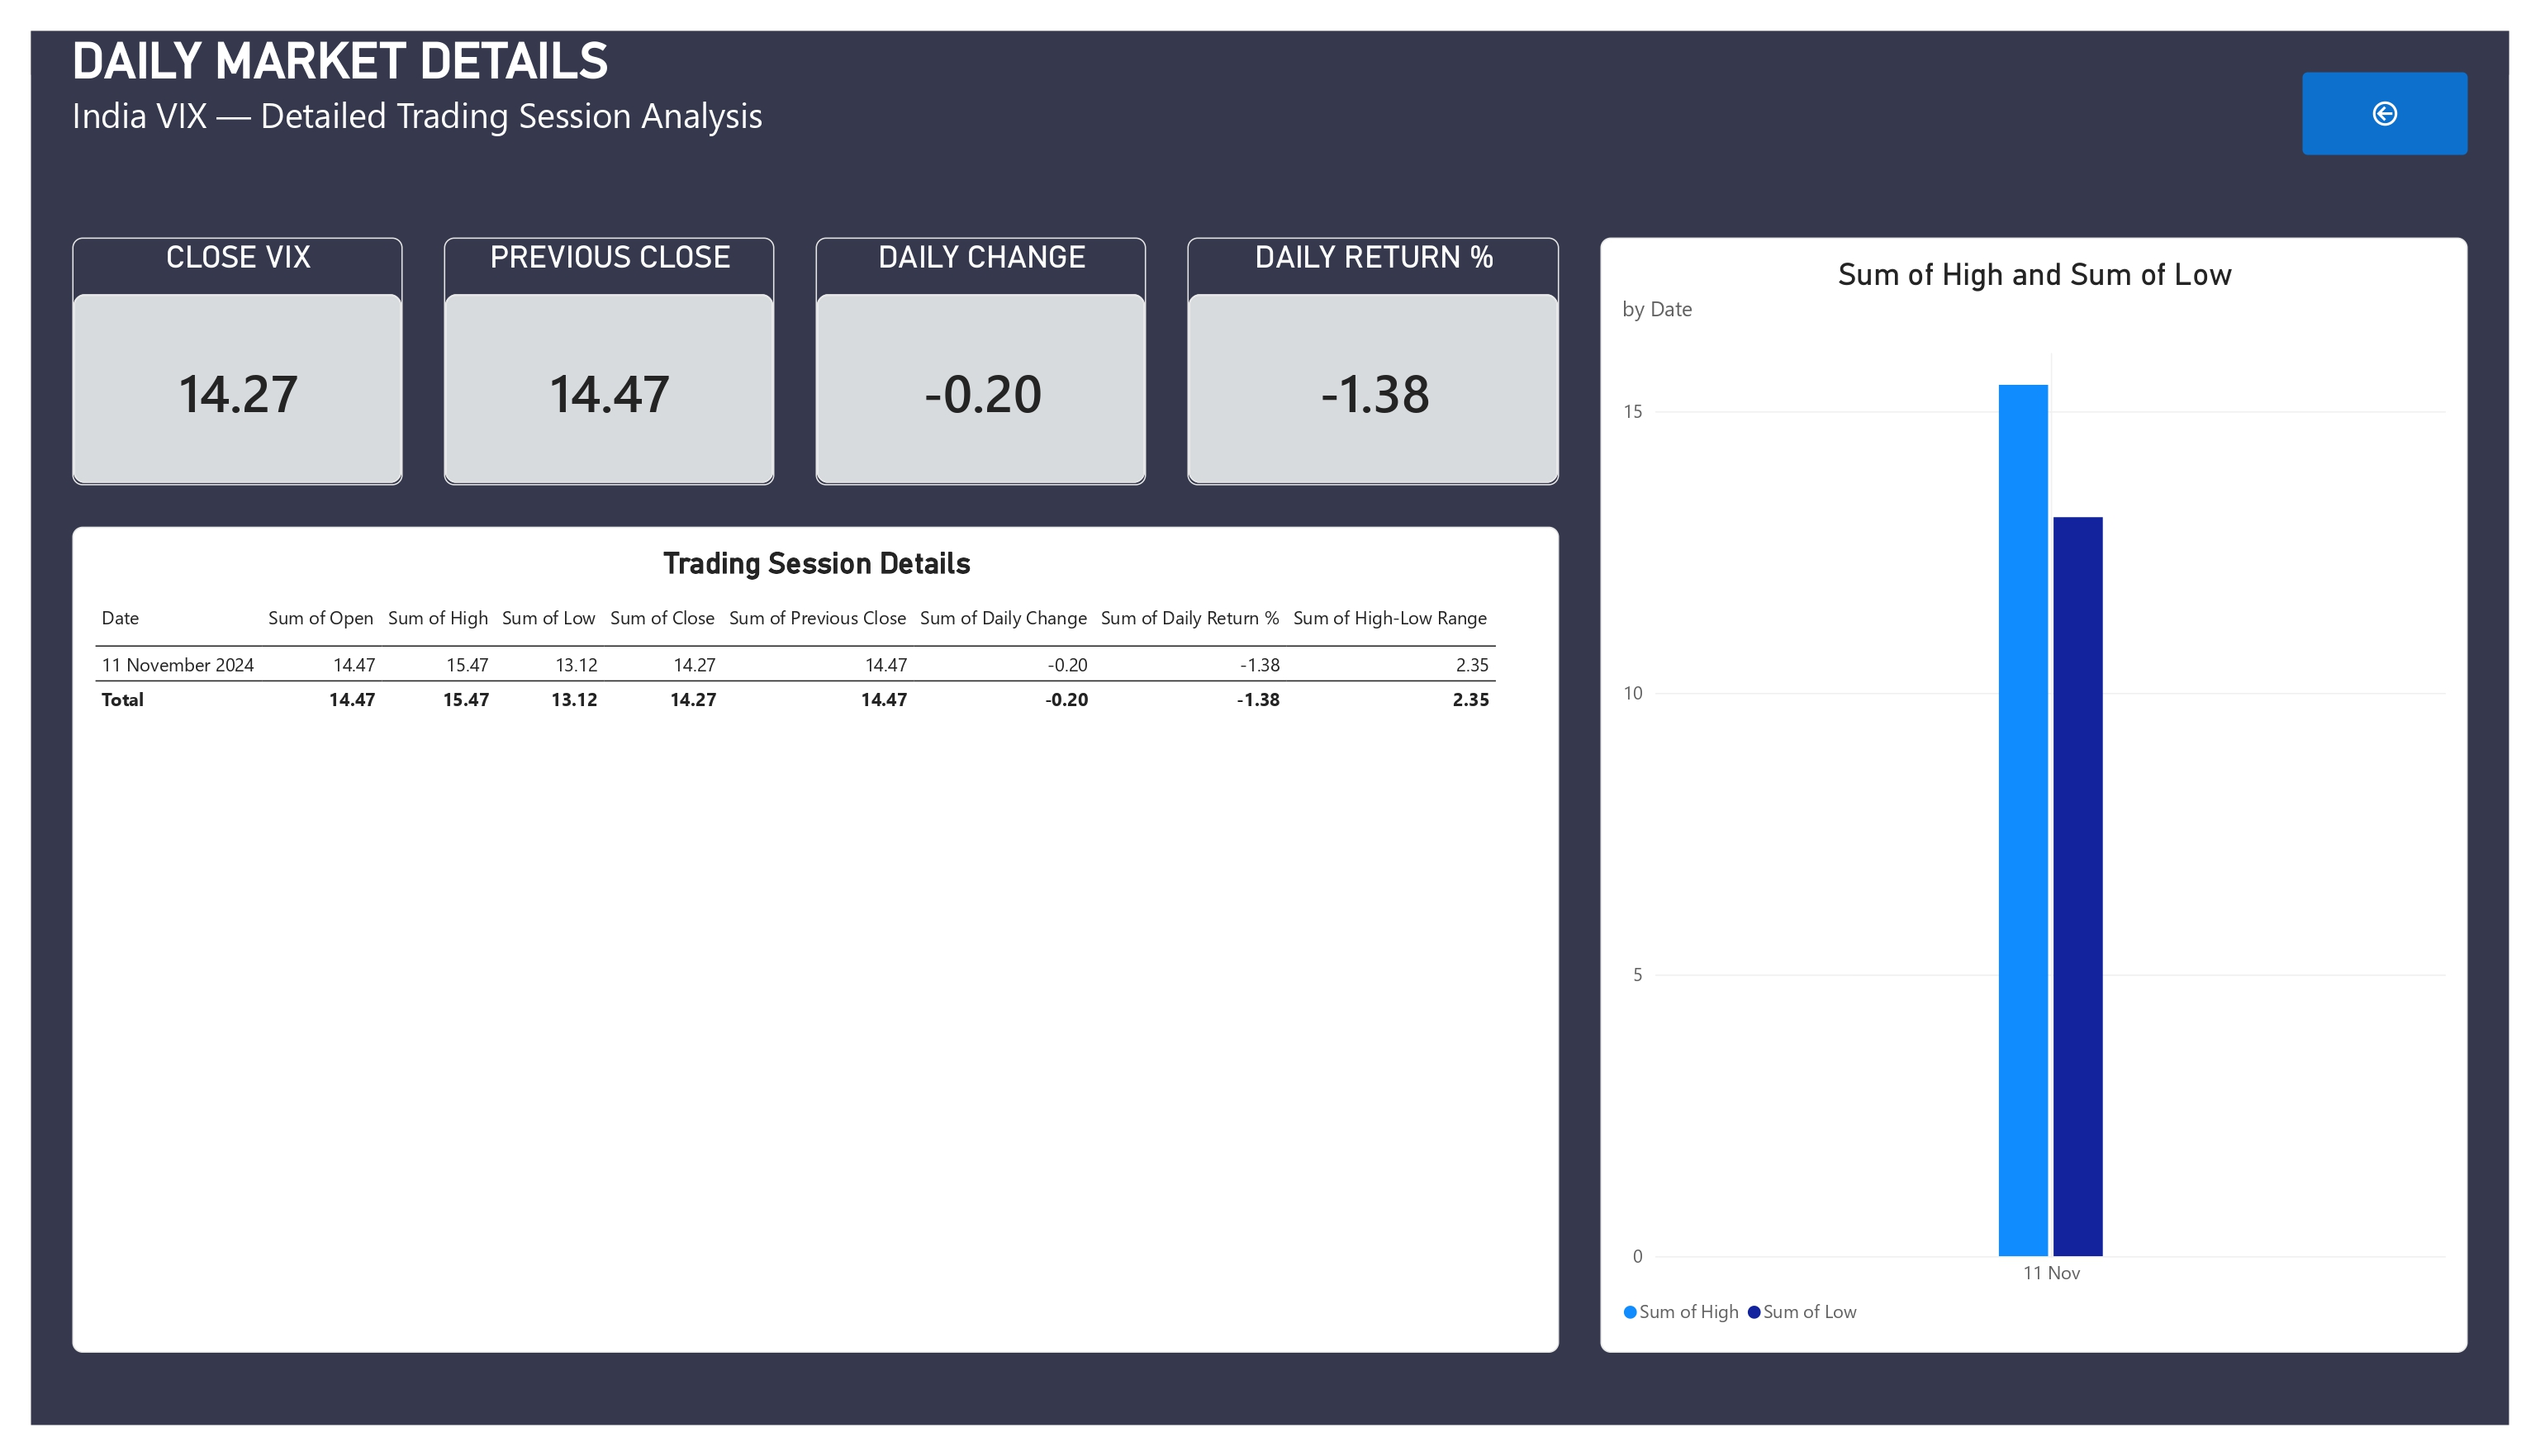

What the dashboard file says about the page in this screenshot:
{"tool":"powerbi","page":{"name":"04_Daily Details","canvas":[1920,1080],"ordinal":3},"visuals":[{"type":"textbox","title":"DAILY MARKET DETAILS","box":[32,0,1888,96],"z":0},{"type":"cardVisual","title":"CLOSE VIX","fields":{"Data":["Sum(IndiaVIX_Cleaned.Close)"]},"box":[32,160,256,192],"z":1000},{"type":"cardVisual","title":"PREVIOUS CLOSE","fields":{"Data":["Sum(IndiaVIX_Cleaned.Previous Close)"]},"box":[320,160,256,192],"z":2000},{"type":"cardVisual","title":"DAILY CHANGE","fields":{"Data":["Sum(IndiaVIX_Cleaned.Daily Change)"]},"box":[608,160,256,192],"z":3000},{"type":"cardVisual","title":"DAILY RETURN %","fields":{"Data":["Sum(IndiaVIX_Cleaned.Daily Return %)"]},"box":[896,160,288,192],"z":4000},{"type":"tableEx","title":"Trading Session Details","fields":{"Values":["IndiaVIX_Cleaned.Date","Sum(IndiaVIX_Cleaned.Open)","Sum(IndiaVIX_Cleaned.High)","Sum(IndiaVIX_Cleaned.Low)","Sum(IndiaVIX_Cleaned.Close)","Sum(IndiaVIX_Cleaned.Previous Close)","Sum(IndiaVIX_Cleaned.Daily Change)","Sum(IndiaVIX_Cleaned.Daily Return %)","Sum(IndiaVIX_Cleaned.High-Low Range)"]},"box":[32,384,1152,640],"z":15000},{"type":"clusteredColumnChart","fields":{"Category":["DateTable.Date"],"Y":["Sum(IndiaVIX_Cleaned.High)","Sum(IndiaVIX_Cleaned.Low)"]},"box":[1216,160,672,864],"z":15001},{"type":"actionButton","box":[1760,32,128,64],"z":15002}]}

Visuals, with their boxes on the page's 1920x1080 design canvas (x1, y1, x2, y2). These are canvas units, not pixel positions in the 2540x1456 screenshot, which may show the page scaled, cropped or inside an application window:
"DAILY MARKET DETAILS" textbox: BBox(32, 0, 1920, 96)
"CLOSE VIX" cardVisual: BBox(32, 160, 288, 352)
"PREVIOUS CLOSE" cardVisual: BBox(320, 160, 576, 352)
"DAILY CHANGE" cardVisual: BBox(608, 160, 864, 352)
"DAILY RETURN %" cardVisual: BBox(896, 160, 1184, 352)
"Trading Session Details" tableEx: BBox(32, 384, 1184, 1024)
clusteredColumnChart - DateTable.Date x Sum(IndiaVIX_Cleaned.High): BBox(1216, 160, 1888, 1024)
actionButton: BBox(1760, 32, 1888, 96)
